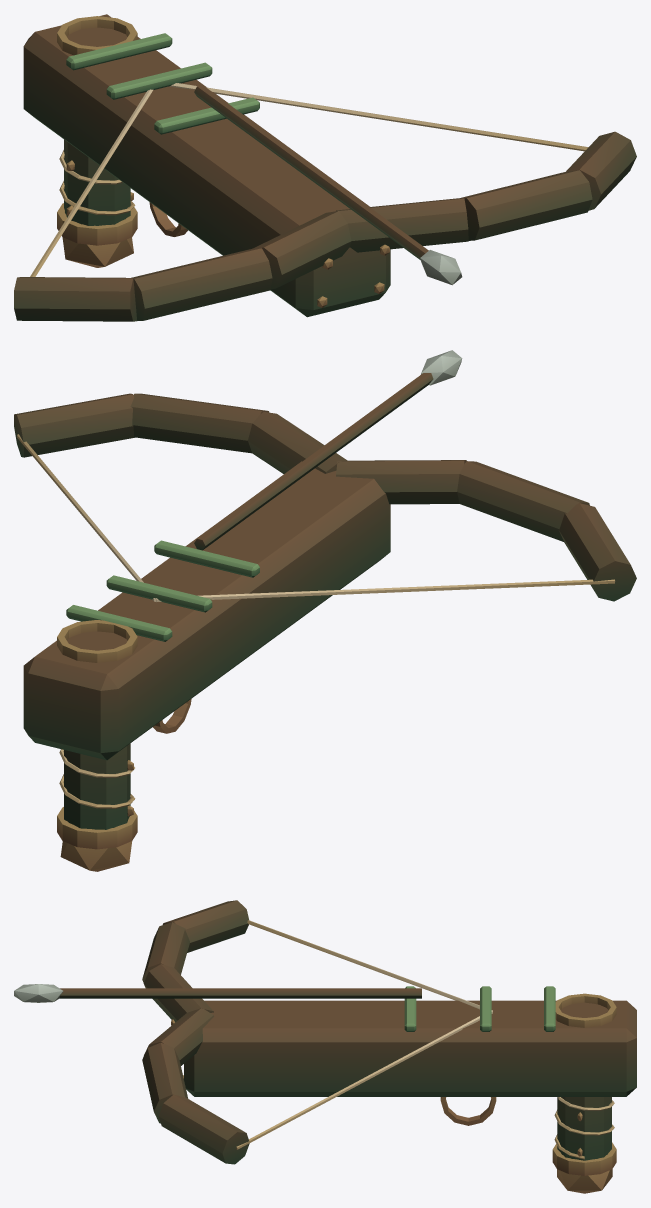
Rendered from ballesta_tejo_errante.glb.
3 renders of one model, top to bottom at view 1: azimuth 30°, elevation 25°; view 2: azimuth 150°, elevation 25°; view 3: azimuth 270°, elevation 25°, orthographic. The views are drawn at different scales.
Parts seen in each view (by area): view 1: ballesta_tejo_errante_finished; view 2: ballesta_tejo_errante_finished; view 3: ballesta_tejo_errante_finished.
Boxes of the visible parts, <box> form: ballesta_tejo_errante_finished: <box>14,14,636,321</box>; ballesta_tejo_errante_finished: <box>14,350,636,871</box>; ballesta_tejo_errante_finished: <box>14,900,636,1193</box>.
Bounding box in the file's own units: 0.9832 × 0.3985 × 1.07.
Materials: 2 (2 with a texture image).
